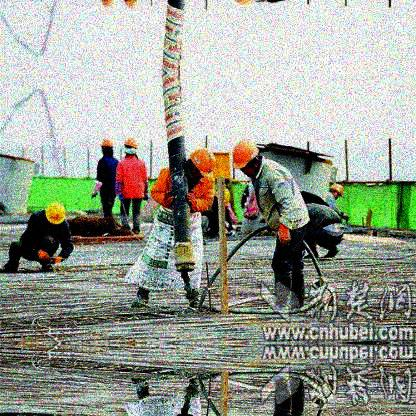helmet: (231, 142, 263, 178), (186, 149, 216, 182), (330, 183, 344, 202), (124, 137, 137, 157), (101, 138, 113, 156)
